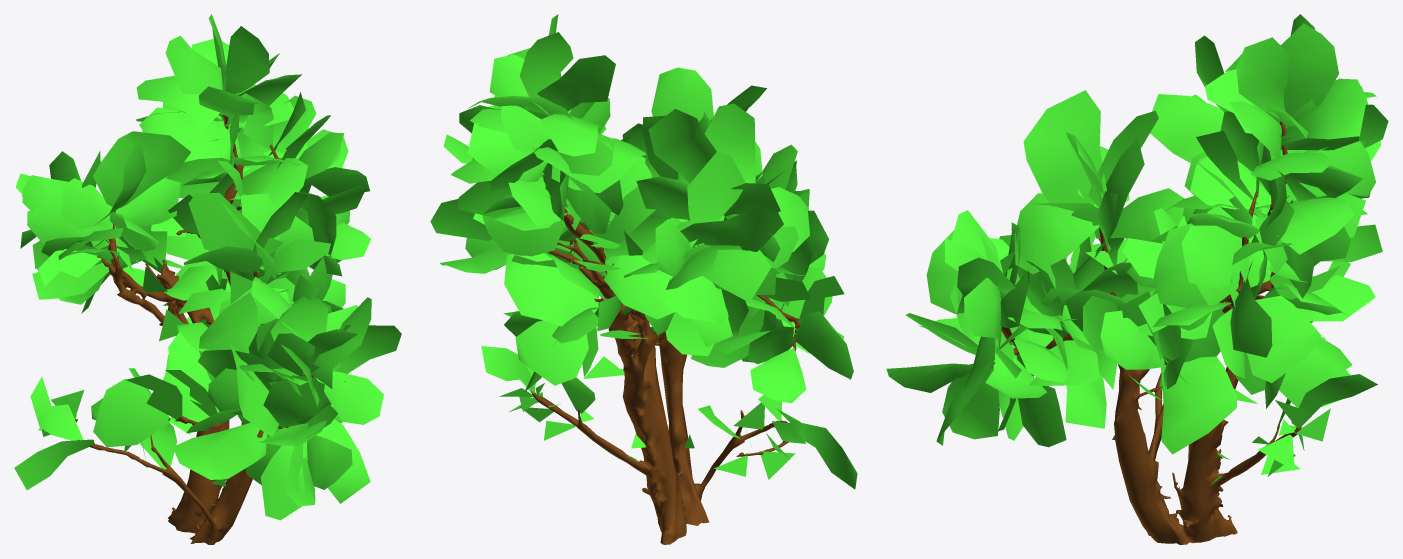
The model's file is MSH_Vegetation_Bristlecone_03.fbx.
3 renders of one model, left to right at view 1: azimuth 30°, elevation 25°; view 2: azimuth 150°, elevation 25°; view 3: azimuth 270°, elevation 25°, orthographic. The views are drawn at different scales.
Visible parts, largest first — view 1: BRANCH_LOD0, TRUNK_LOD0; view 2: BRANCH_LOD0, TRUNK_LOD0; view 3: BRANCH_LOD0, TRUNK_LOD0.
Boxes of the visible parts, x1=… form: BRANCH_LOD0: x1=14, y1=14, x2=401, y2=520; TRUNK_LOD0: x1=75, y1=115, x2=313, y2=544; BRANCH_LOD0: x1=430, y1=14, x2=857, y2=489; TRUNK_LOD0: x1=530, y1=149, x2=800, y2=544; BRANCH_LOD0: x1=886, y1=14, x2=1388, y2=485; TRUNK_LOD0: x1=992, y1=121, x2=1301, y2=544.
Size of what is drawn, in the model's own units: 300 by 370 by 307.
